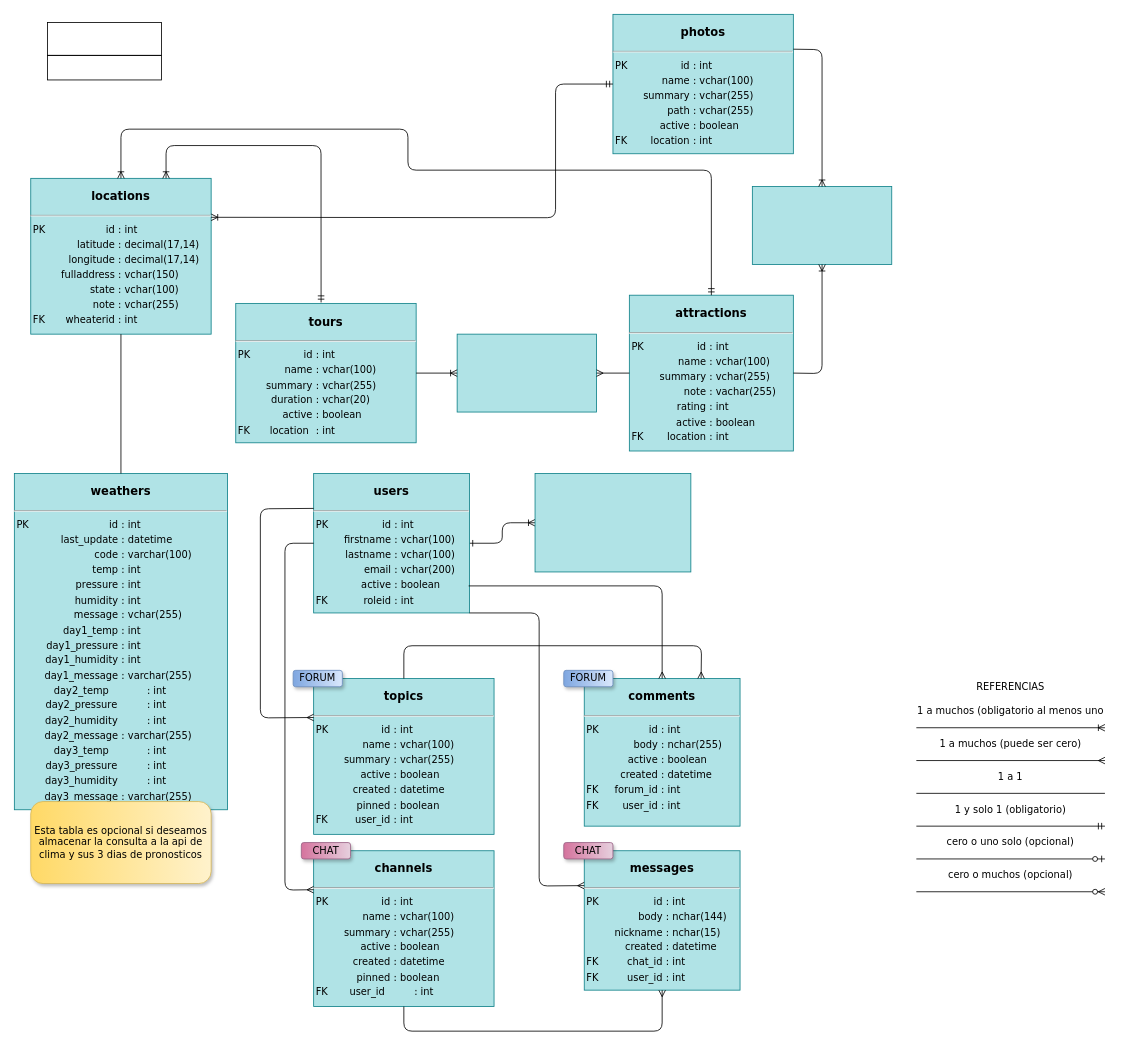
Some shapes in this 1136 by 1052 pixel diagram are drawn without their labels. Here are the shapes that lost their labels. From the top down, the centre of each, then its label:
point (104, 38): MOD. BD RELACIONAL GRUPO 1B VIAJAR360
point (822, 225): attraction_photos FK photo_id : int FK attraction_id : int
point (526, 372): tour_attractions FK tour_id : int FK attraction_id : int
point (612, 522): roles PK id : int rolename : vchar(100) active : boolean
